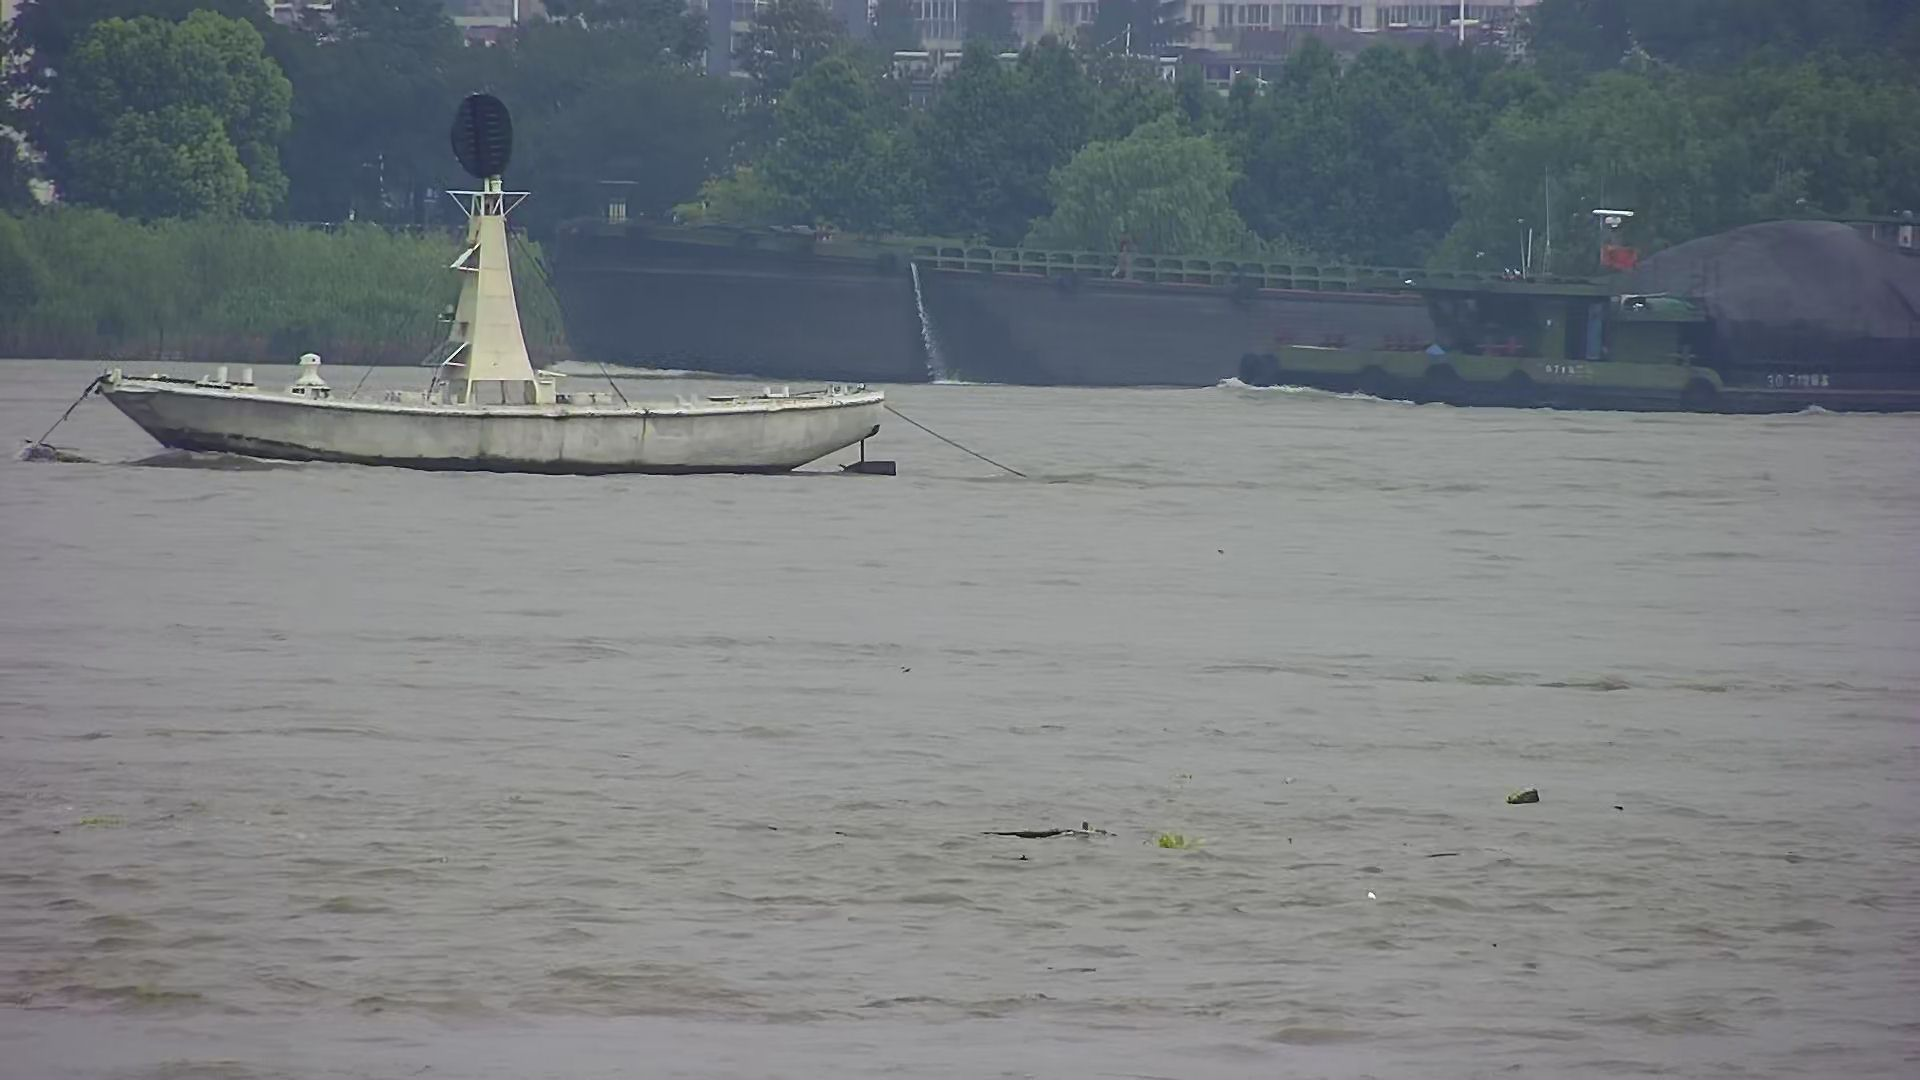boat: (84, 88, 920, 473)
ship: (1232, 261, 1915, 418)
